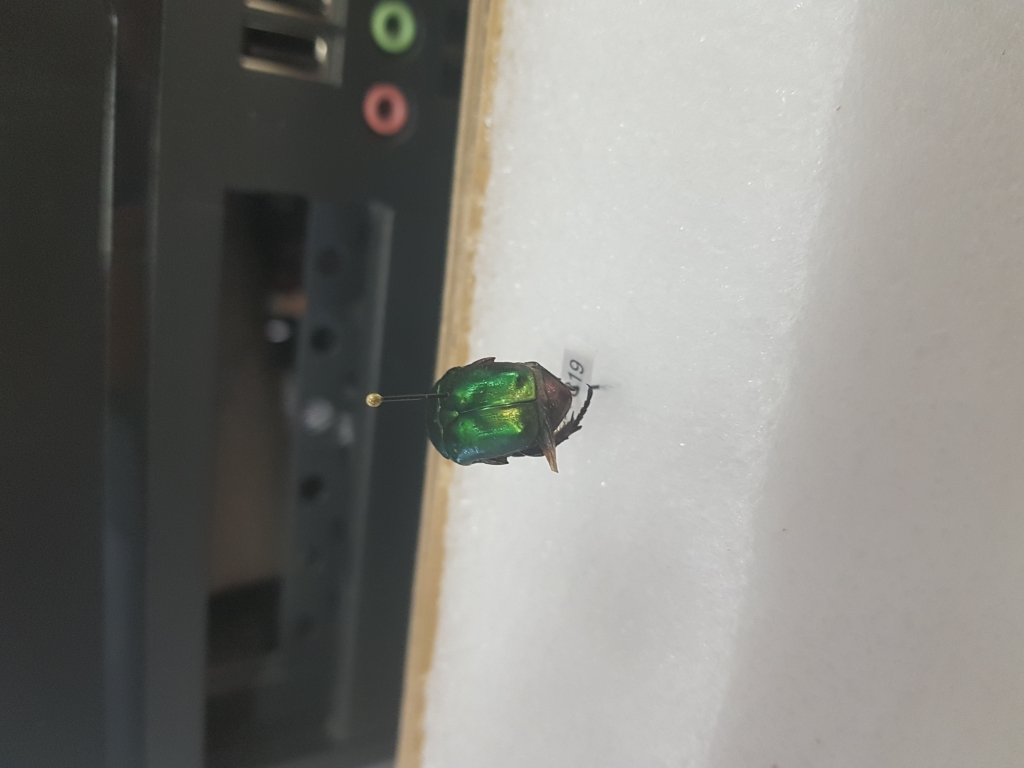Protaetia_cuprea_ignicollis: (419, 344, 600, 484)
